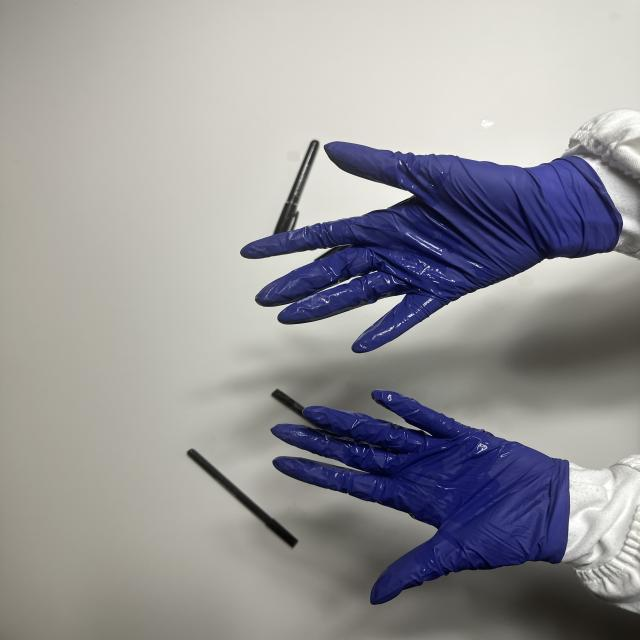gloves_contaminated: (241, 142, 622, 352), (272, 390, 570, 604)
